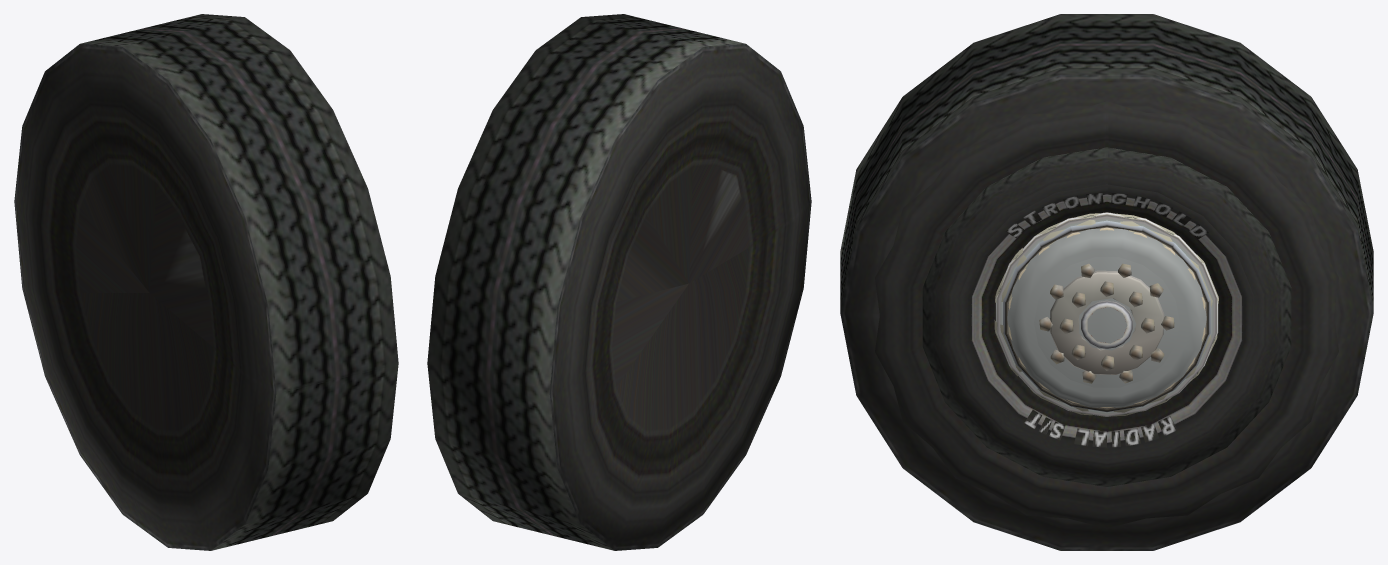
The model's file is WheelPack.FBX.
3 views of the same model, side by side, from view 1: azimuth 30°, elevation 25°; view 2: azimuth 150°, elevation 25°; view 3: azimuth 270°, elevation 25° (orthographic).
Visible parts, largest first — view 1: UAA_SemiWhl; view 2: UAA_SemiWhl; view 3: UAA_SemiWhl, UAA_TIR-Semi, UAA_TIR-WW2, UAA_TIR-WW1, LWWTire002, UAA_WHL-TRKS, UAA_TruckWhl, UAA_TIR-LTR1, UAA_WHL-SemiA, UAA_Hubcap34, UAA_Hubcap32, UAA_WHL-AlloyCh (+1 smaller).
Boxes of the visible parts, box(x1,y1,x2,y2) form: UAA_SemiWhl: box(14, 14, 398, 550); UAA_SemiWhl: box(427, 14, 811, 550); UAA_SemiWhl: box(840, 14, 1373, 550); UAA_TIR-Semi: box(875, 101, 1338, 528); UAA_TIR-WW2: box(922, 147, 1291, 486); UAA_TIR-WW1: box(959, 184, 1254, 455); LWWTire002: box(959, 184, 1254, 455); UAA_WHL-TRKS: box(1049, 270, 1164, 374); UAA_TruckWhl: box(1034, 257, 1179, 387); UAA_TIR-LTR1: box(1005, 193, 1208, 447); UAA_WHL-SemiA: box(994, 213, 1218, 416); UAA_Hubcap34: box(997, 215, 1216, 416); UAA_Hubcap32: box(1003, 220, 1210, 412); UAA_WHL-AlloyCh: box(995, 212, 1218, 416).
Size of the model in its own units: 35.16 by 99.9 by 101.
